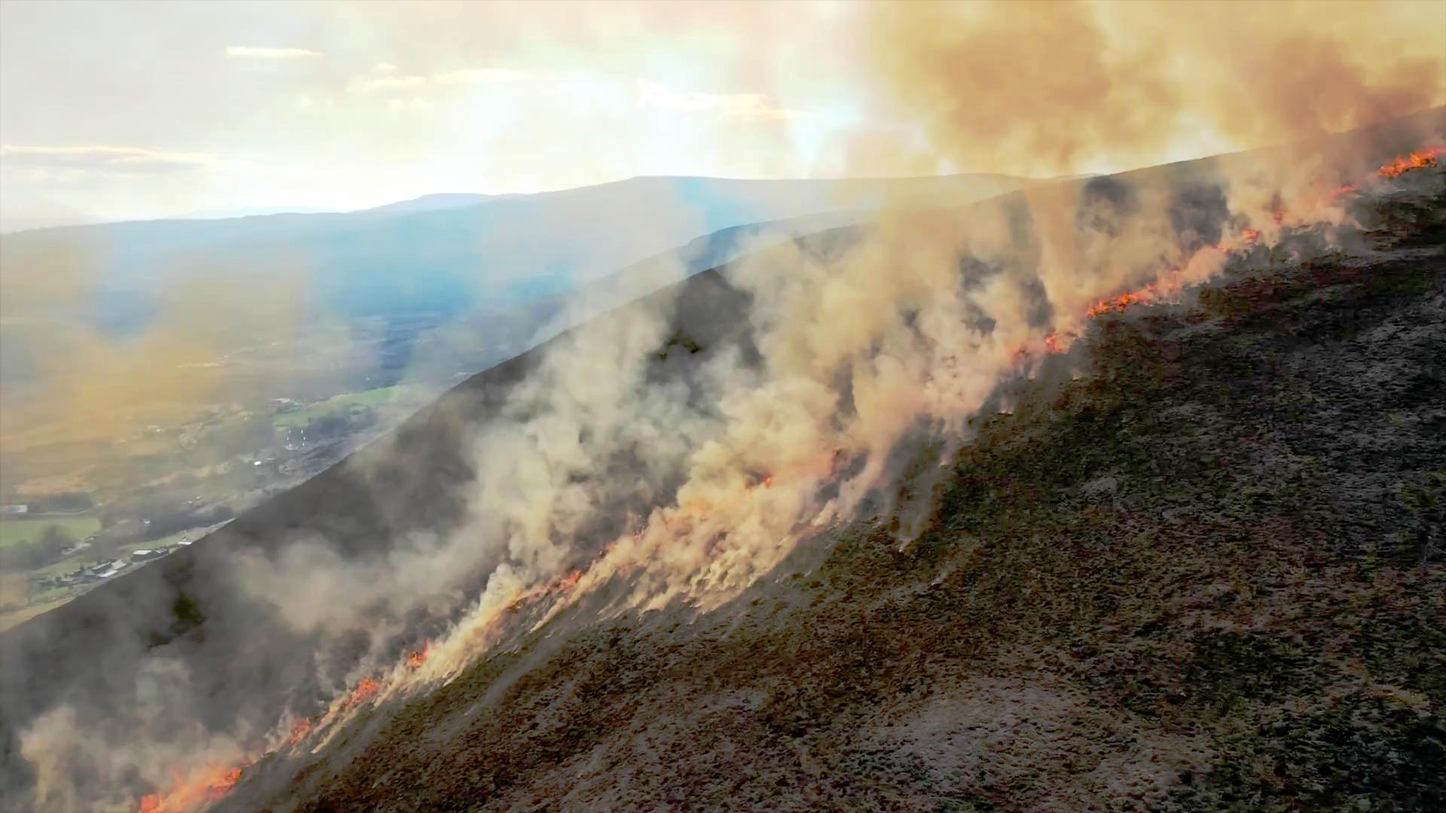smoke: (915, 0, 1446, 136), (486, 226, 703, 530), (991, 17, 1093, 311), (893, 136, 993, 374), (194, 524, 392, 634), (17, 663, 191, 788), (755, 243, 907, 368), (682, 439, 776, 560), (721, 390, 838, 469)
